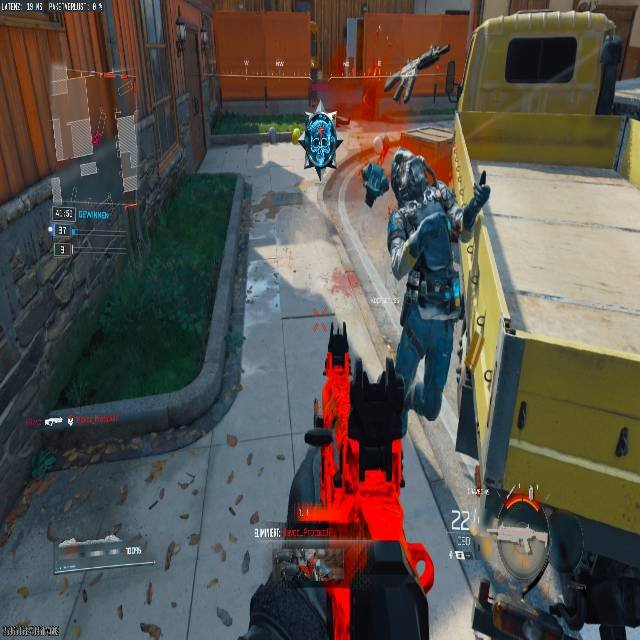head: (496, 501, 551, 578), (389, 151, 432, 201)
player: (359, 132, 495, 473), (462, 500, 638, 639), (368, 139, 467, 307), (299, 107, 343, 182)
